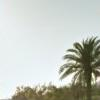Palm tree: (60, 32, 100, 100)
